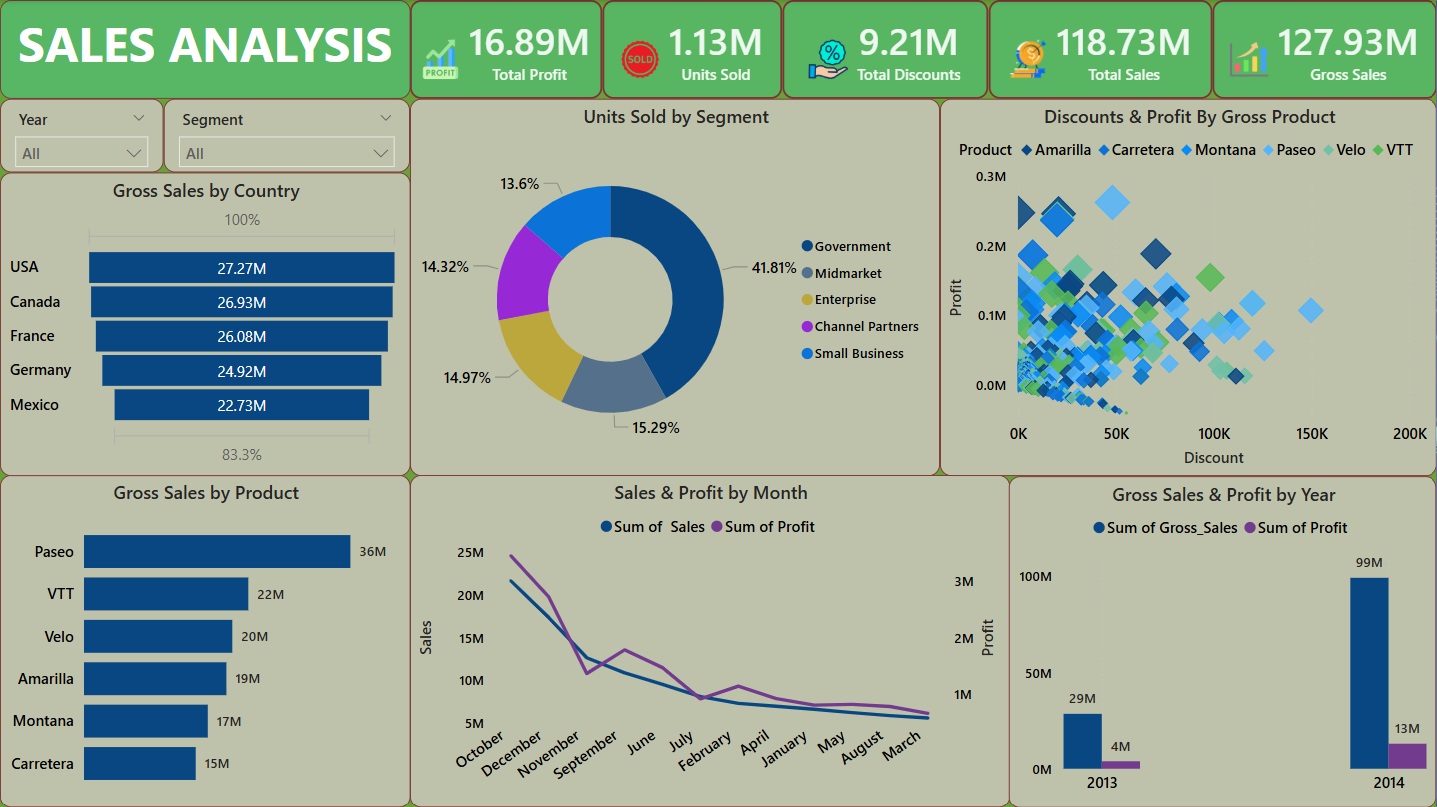

The page's visual inventory and layout, read from the dashboard file:
{"tool":"powerbi","page":{"name":"Page 1","canvas":[1280,720],"ordinal":0},"visuals":[{"type":"donutChart","title":"Units Sold by Segment","fields":{"Category":["financials.Segment"],"Y":["Sum(financials.Units Sold)"]},"box":[365,87.8,472,336.2],"z":0},{"type":"cardVisual","title":"Profit","fields":{"Data":["financials.Total Profit"]},"box":[365.6,0,171.2,88],"z":1000},{"type":"cardVisual","fields":{"Data":["financials.Total Gross Sales"]},"box":[1079.8,0,200.5,88],"z":2000},{"type":"cardVisual","fields":{"Data":["financials.Total Sales"]},"box":[880.4,0,199.3,88],"z":3000},{"type":"cardVisual","fields":{"Data":["financials.Units Sold"]},"box":[536.8,0,160.2,88],"z":4000},{"type":"cardVisual","fields":{"Data":["financials.Total Discounts"]},"box":[697,0,183.4,88],"z":5000},{"type":"lineChart","title":"Sales & Profit by Month","fields":{"Category":["financials.Month Name"],"Y":["Sum(financials. Sales)"],"Y2":["Sum(financials.Profit)"]},"box":[365.6,423.5,534.5,296.8],"z":6000},{"type":"barChart","title":"Gross Sales by Product","fields":{"Category":["financials.Product"],"Y":["Sum(financials.Gross Sales)"]},"box":[0,423.5,365.6,296.8],"z":7000},{"type":"scatterChart","title":"Discounts & Profit By Gross Product","fields":{"X":["Sum(financials.Discounts)"],"Y":["Sum(financials.Profit)"],"Category":["financials.Gross_Sales"],"Series":["financials.Product"],"Size":["Sum(financials.Profit)"]},"box":[837.1,87.8,443.2,336.2],"z":8000},{"type":"clusteredColumnChart","title":"Gross Sales & Profit by Year","fields":{"Category":["financials.Year"],"Y":["financials.Gross Sales","Sum(financials.Profit)"]},"box":[898.8,424,381.5,296.4],"z":9000},{"type":"funnel","title":"Gross Sales by Country","fields":{"Category":["financials.Country"],"Y":["Sum(financials.Gross_Sales)"]},"box":[0,153.2,365.6,270.2],"z":10000},{"type":"textbox","box":[0,0,365.6,88.1],"z":11000},{"type":"slicer","fields":{"Values":["financials.Year"]},"box":[0,87.8,145.5,65.9],"z":12000},{"type":"slicer","fields":{"Values":["financials.Segment"]},"box":[145.5,87.8,219.6,65.9],"z":13000}]}

Visuals, with their boxes in screenshot pixels (x1, y1, x2, y2), scaled from the page's 1280x720 canvas onto the 1437x807 screenshot:
"Units Sold by Segment" donutChart: pyautogui.locateOnScreen(410, 98, 940, 475)
"Profit" cardVisual: pyautogui.locateOnScreen(410, 0, 603, 99)
cardVisual - financials.Total Gross Sales: pyautogui.locateOnScreen(1212, 0, 1436, 99)
cardVisual - financials.Total Sales: pyautogui.locateOnScreen(988, 0, 1212, 99)
cardVisual - financials.Units Sold: pyautogui.locateOnScreen(603, 0, 782, 99)
cardVisual - financials.Total Discounts: pyautogui.locateOnScreen(782, 0, 988, 99)
"Sales & Profit by Month" lineChart: pyautogui.locateOnScreen(410, 475, 1011, 806)
"Gross Sales by Product" barChart: pyautogui.locateOnScreen(0, 475, 410, 806)
"Discounts & Profit By Gross Product" scatterChart: pyautogui.locateOnScreen(940, 98, 1436, 475)
"Gross Sales & Profit by Year" clusteredColumnChart: pyautogui.locateOnScreen(1009, 475, 1436, 806)
"Gross Sales by Country" funnel: pyautogui.locateOnScreen(0, 172, 410, 475)
textbox: pyautogui.locateOnScreen(0, 0, 410, 99)
slicer - financials.Year: pyautogui.locateOnScreen(0, 98, 163, 172)
slicer - financials.Segment: pyautogui.locateOnScreen(163, 98, 410, 172)
